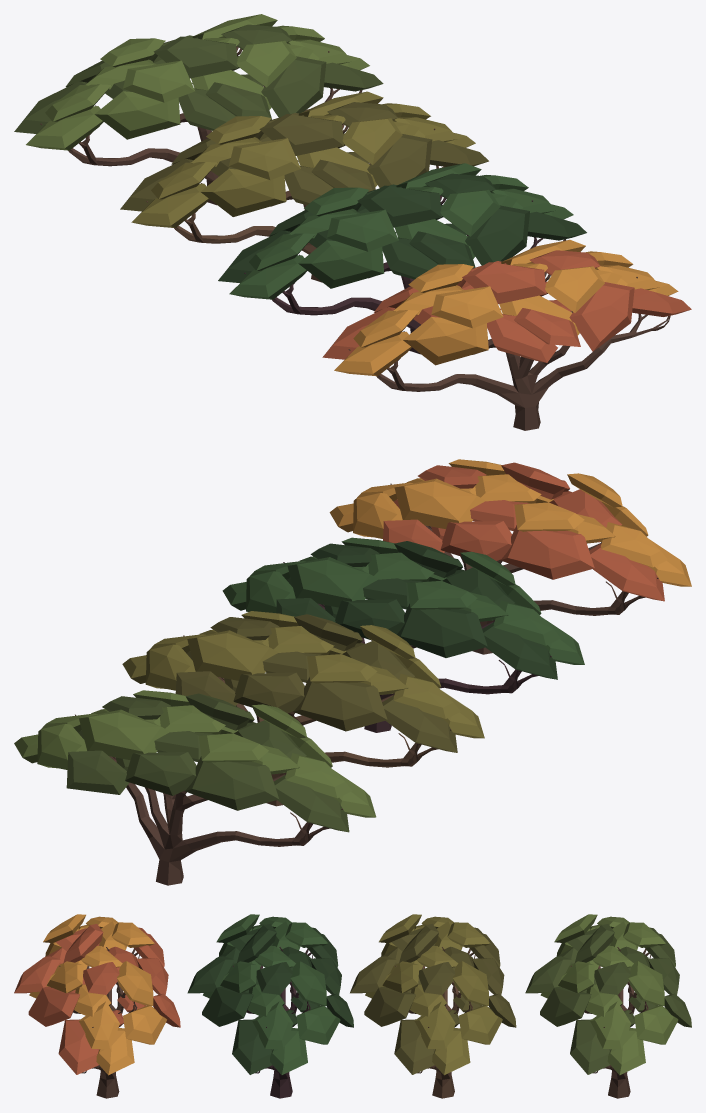
Rendered from TreeType2.gltf.
3 renders of one model, top to bottom at view 1: azimuth 30°, elevation 25°; view 2: azimuth 150°, elevation 25°; view 3: azimuth 270°, elevation 25°, orthographic. The views are drawn at different scales.
Parts seen in each view (by area): view 1: Tree_Type0_04_mesh.002, Tree_Type0_04_mesh.003, Tree_Type0_04_mesh.001, Tree_Type0_04_mesh; view 2: Tree_Type0_04_mesh.003, Tree_Type0_04_mesh, Tree_Type0_04_mesh.002, Tree_Type0_04_mesh.001; view 3: Tree_Type0_04_mesh.002, Tree_Type0_04_mesh, Tree_Type0_04_mesh.003, Tree_Type0_04_mesh.001.
Part boxes in pixels (bbox=[...]): Tree_Type0_04_mesh.002: bbox=[322, 239, 691, 430]; Tree_Type0_04_mesh.003: bbox=[14, 14, 383, 205]; Tree_Type0_04_mesh.001: bbox=[218, 163, 586, 354]; Tree_Type0_04_mesh: bbox=[120, 91, 488, 282]; Tree_Type0_04_mesh.003: bbox=[14, 690, 376, 885]; Tree_Type0_04_mesh: bbox=[122, 611, 484, 806]; Tree_Type0_04_mesh.002: bbox=[329, 459, 691, 654]; Tree_Type0_04_mesh.001: bbox=[222, 537, 584, 732]; Tree_Type0_04_mesh.002: bbox=[14, 914, 180, 1098]; Tree_Type0_04_mesh: bbox=[350, 914, 516, 1098]; Tree_Type0_04_mesh.003: bbox=[525, 914, 691, 1098]; Tree_Type0_04_mesh.001: bbox=[187, 914, 353, 1098].
Bounding box in the file's own units: 7.72 × 3.75 × 15.65.
Materials: 4 (4 with a texture image).
